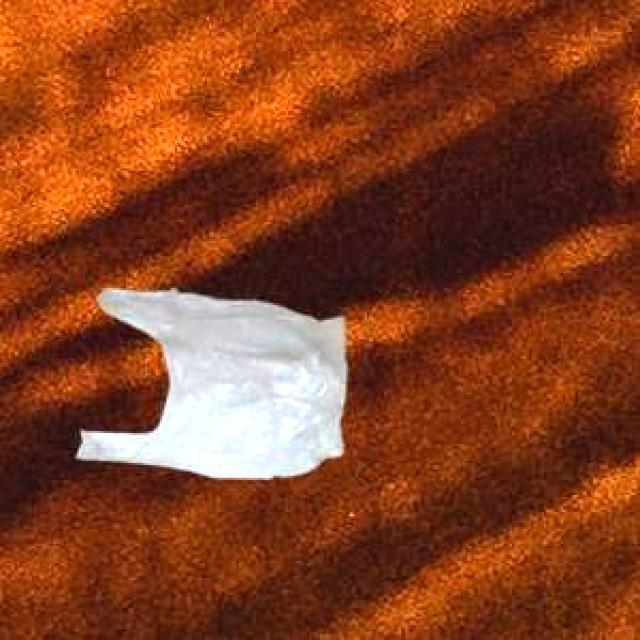Plastic_Bag: (73, 284, 344, 474)
